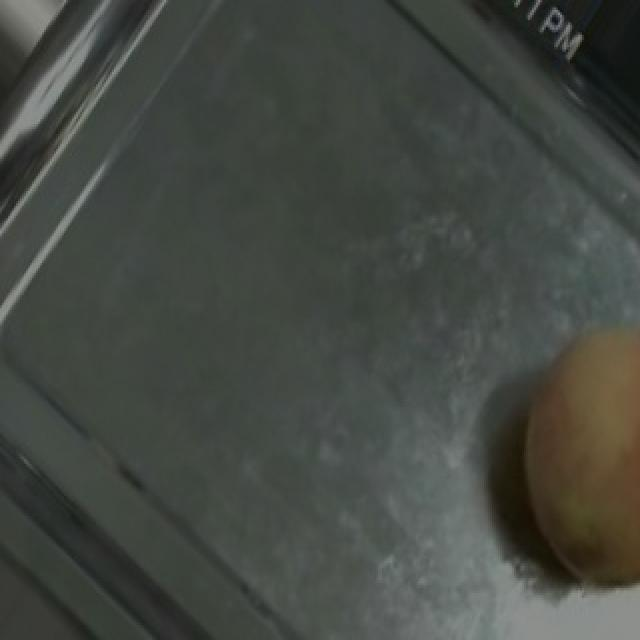Fruit: (480, 288, 640, 608)
